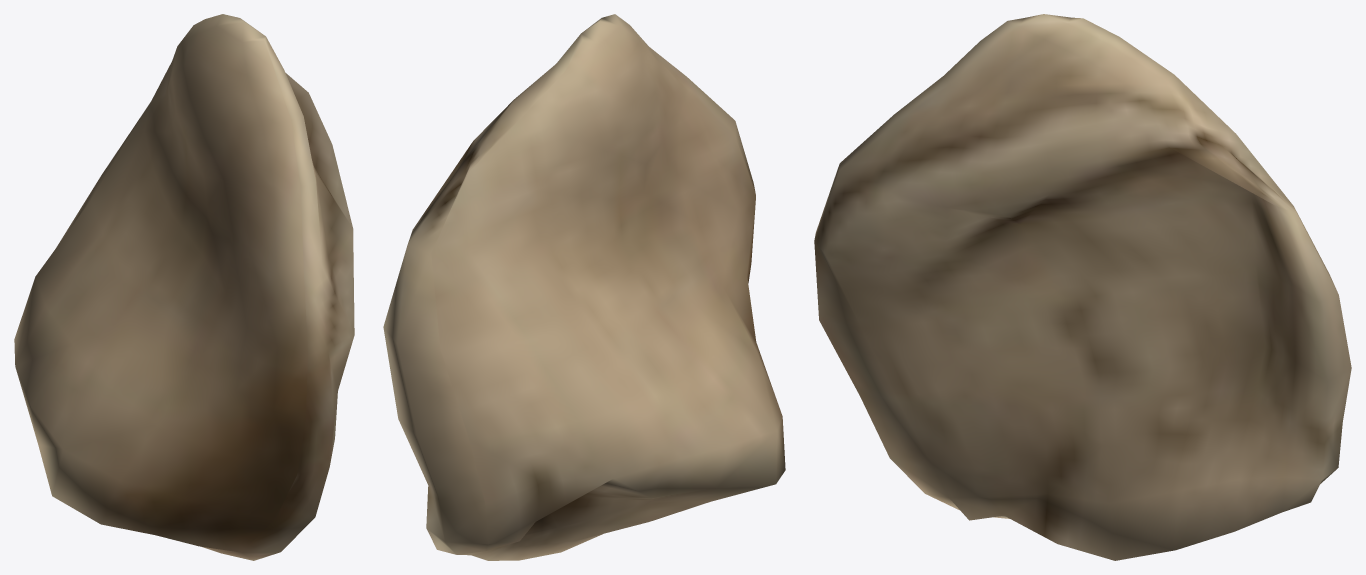
Rendered from Maxilary_Molar4.glb.
The picture shows the model from 3 angles, left to right: view 1: azimuth 30°, elevation 25°; view 2: azimuth 150°, elevation 25°; view 3: azimuth 270°, elevation 25°; orthographic projection. The views are drawn at different scales.
Visible parts, largest first — view 1: Molar8; view 2: Molar8; view 3: Molar8.
Part boxes in pixels (<box>): Molar8: <box>14,14,354,560</box>; Molar8: <box>383,14,785,560</box>; Molar8: <box>814,14,1351,560</box>.
Size of the model in its own units: 0.0159 by 0.0286 by 0.0263.
Materials: 1 (1 with a texture image).
